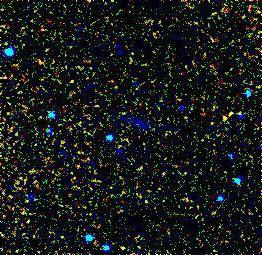star: (214, 102, 244, 132)
